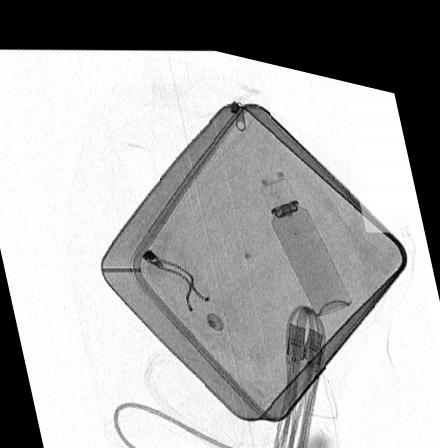Sprayer: (258, 163, 351, 301)
